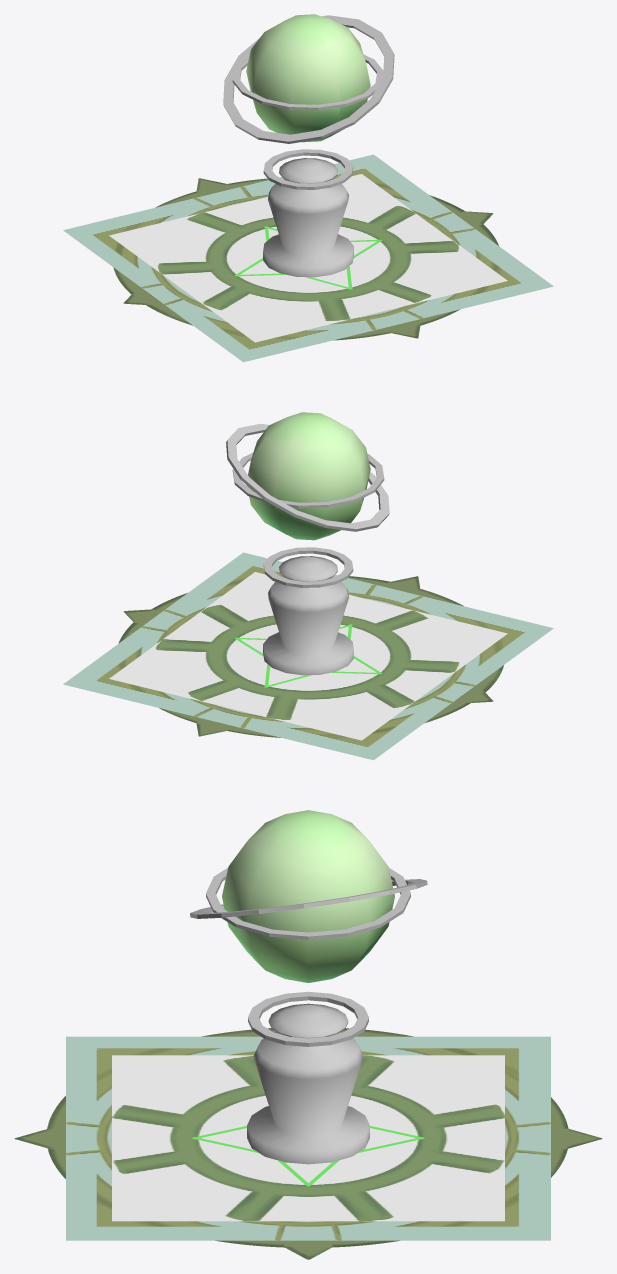
File: Main_1005_obj_02.fbx
3 views of the same model, one above another, from view 1: azimuth 30°, elevation 25°; view 2: azimuth 150°, elevation 25°; view 3: azimuth 270°, elevation 25° (orthographic). The views are drawn at different scales.
Parts seen in each view (by area): view 1: Main_1001_Tex_14, Main_1001_Tex_15, Sphere.001, Cylinder.001, Circle.001, Main_1001_Tex_13.002, Circle.003, Circle, Main_1001_Tex_16; view 2: Main_1001_Tex_14, Main_1001_Tex_15, Sphere.001, Cylinder.001, Main_1001_Tex_13.002, Circle.001, Circle.003, Circle, Main_1001_Tex_16; view 3: Main_1001_Tex_14, Main_1001_Tex_15, Sphere.001, Cylinder.001, Main_1001_Tex_13.002, Circle.003, Circle, Circle.001, Main_1001_Tex_16.
Part boxes in pixels (x1,y1,x2,y2): Main_1001_Tex_14: [109, 174, 507, 342]; Main_1001_Tex_15: [63, 154, 553, 362]; Sphere.001: [246, 14, 370, 142]; Cylinder.001: [263, 158, 353, 277]; Circle.001: [223, 15, 394, 143]; Main_1001_Tex_13.002: [113, 178, 498, 340]; Circle.003: [263, 149, 353, 189]; Circle: [232, 54, 383, 110]; Main_1001_Tex_16: [235, 226, 381, 289]; Main_1001_Tex_14: [109, 572, 507, 740]; Main_1001_Tex_15: [63, 552, 553, 760]; Sphere.001: [246, 412, 370, 540]; Cylinder.001: [263, 556, 353, 675]; Main_1001_Tex_13.002: [118, 576, 503, 737]; Circle.001: [226, 423, 389, 531]; Circle.003: [263, 547, 353, 587]; Circle: [232, 452, 384, 508]; Main_1001_Tex_16: [235, 624, 381, 687]; Main_1001_Tex_14: [112, 1055, 504, 1221]; Main_1001_Tex_15: [66, 1036, 550, 1240]; Sphere.001: [222, 810, 394, 982]; Cylinder.001: [247, 1003, 369, 1164]; Main_1001_Tex_13.002: [14, 1028, 602, 1259]; Circle.003: [248, 991, 368, 1046]; Circle: [206, 868, 410, 939]; Circle.001: [190, 879, 427, 918]; Main_1001_Tex_16: [192, 1126, 424, 1186].
Size of the model in its own units: 97.43 by 63.36 by 100.
